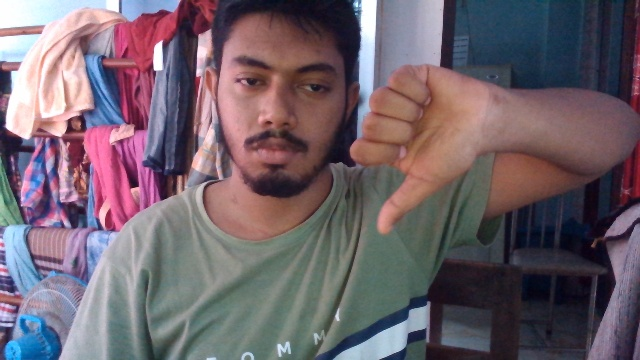no: (353, 43, 486, 244)
